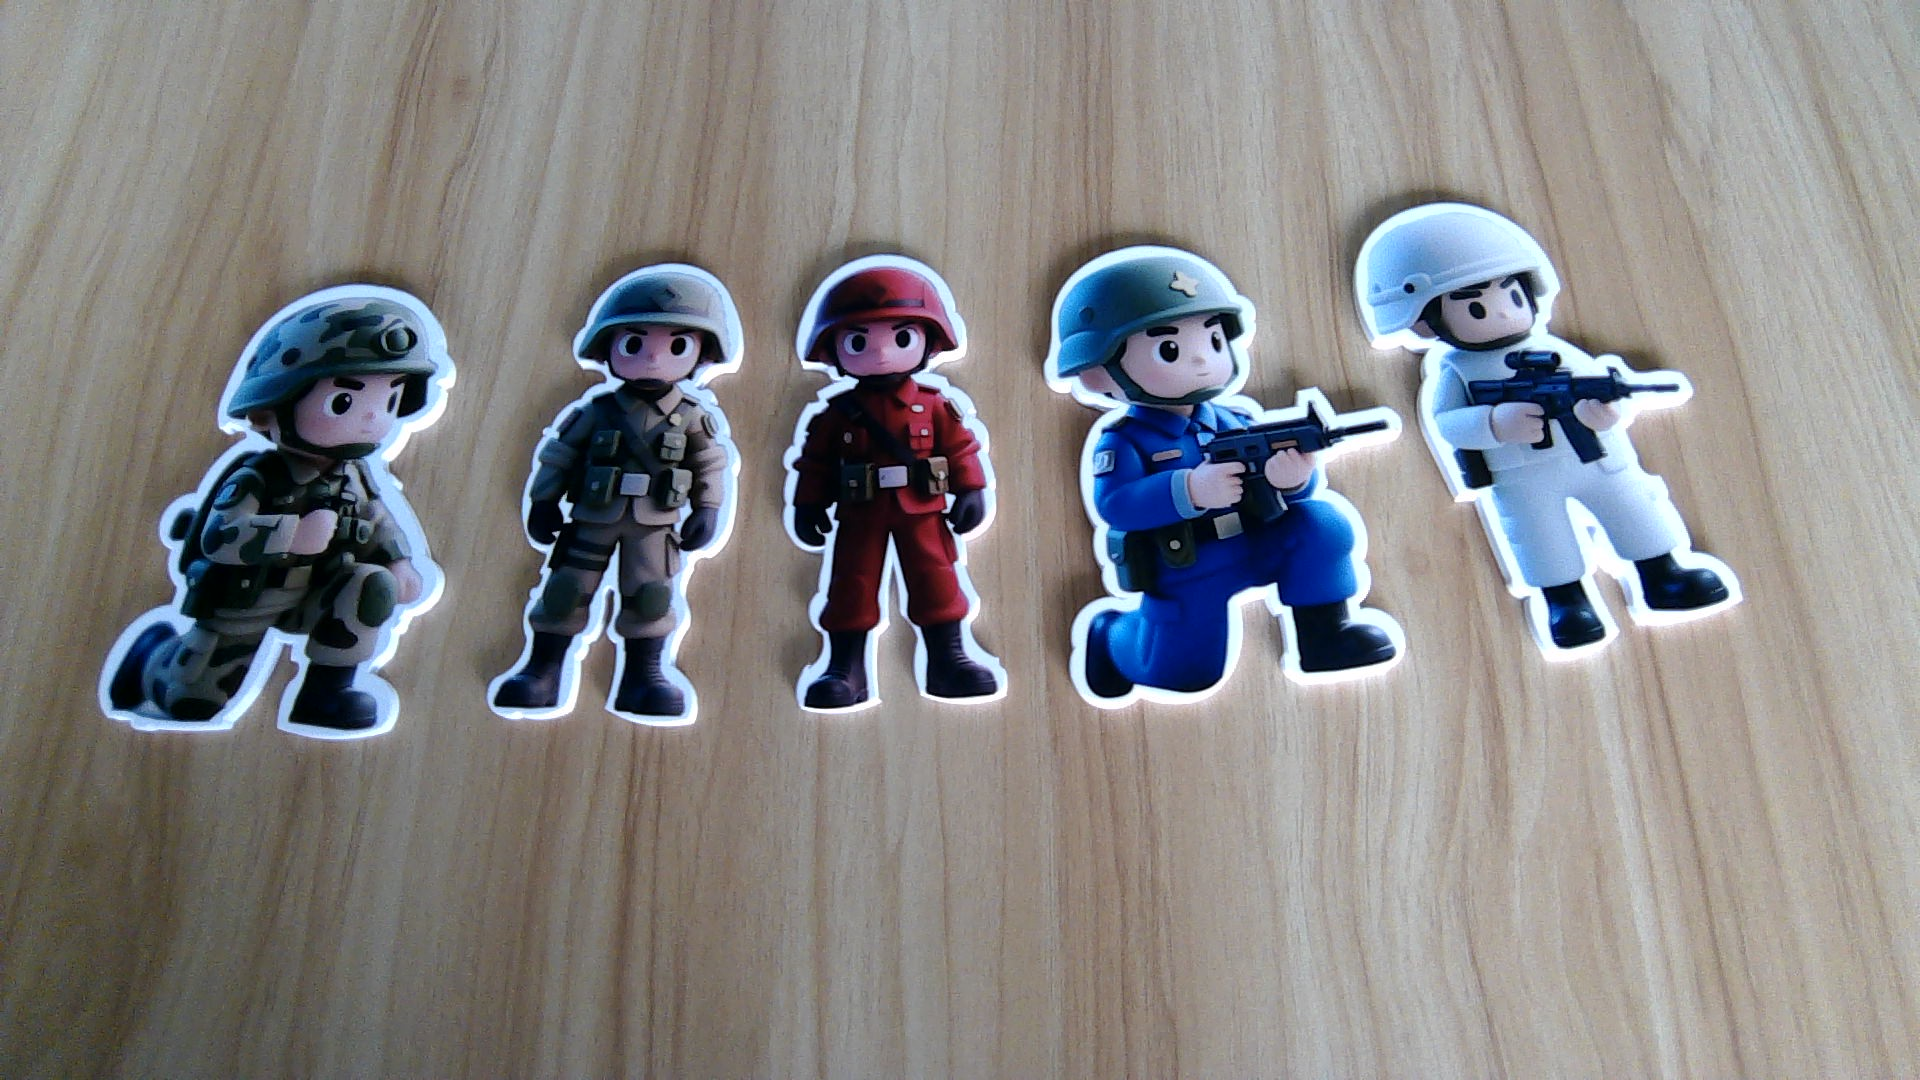人质: (1412, 345, 1756, 659)
友军: (91, 454, 448, 737), (485, 384, 742, 732)
敌人1: (775, 381, 1015, 713)
敌人2: (1067, 407, 1412, 708)
